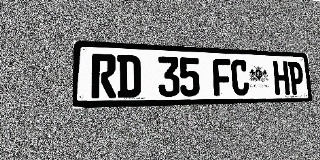3: (158, 56, 180, 97)
5: (179, 57, 200, 97)
C: (231, 59, 249, 96)
D: (117, 55, 141, 98)
F: (212, 58, 232, 96)
H: (273, 61, 290, 95)
P: (288, 61, 304, 95)
R: (91, 54, 116, 98)
